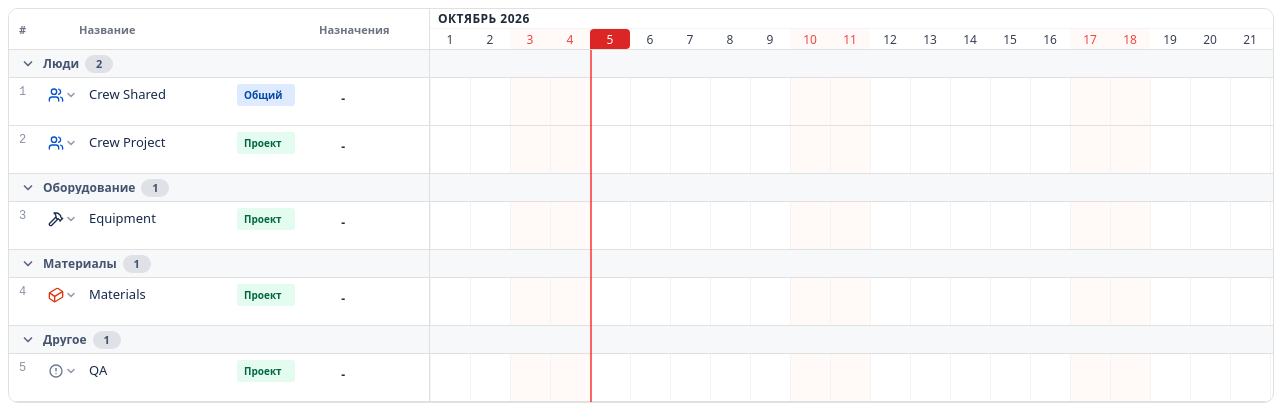
ResourceTimelineChart › collapses and expands grouped resource sections by chevron
Expected: the button with aria-label "Название ресурса Crew Shared" is shown, [85,84,225,118]
Expected: the button with aria-label "Название ресурса Crew Project" is shown, [85,132,225,166]
What coordinates should you click on to do the following:
click the button named "Свернуть группу Люди"
I would click on:
 (28, 64)
Its box is [19,54,37,72].
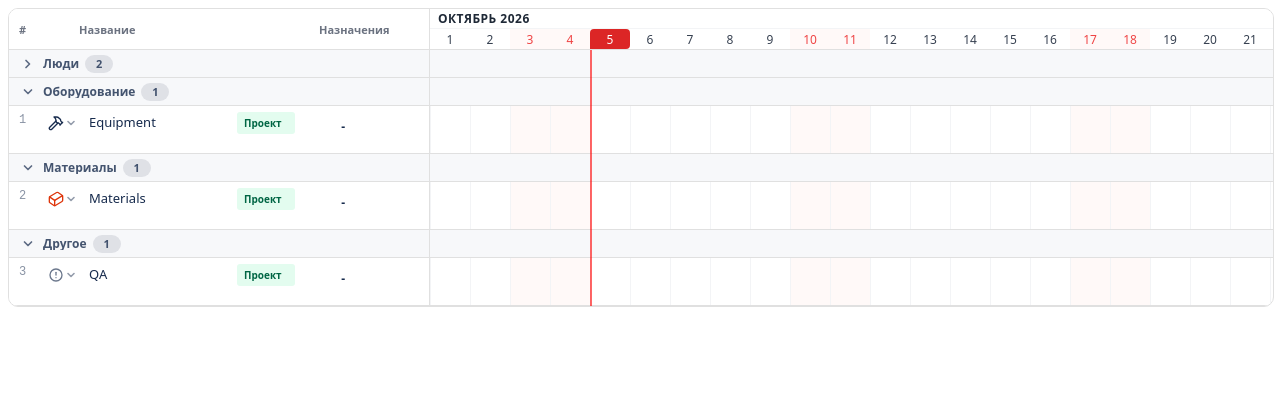
Expected: the button named "Развернуть группу Люди" is collapsed
What coordinates should you click on to do the following:
click the button named "Развернуть группу Люди"
I would click on:
 (28, 64)
Its box is [19,54,37,72].
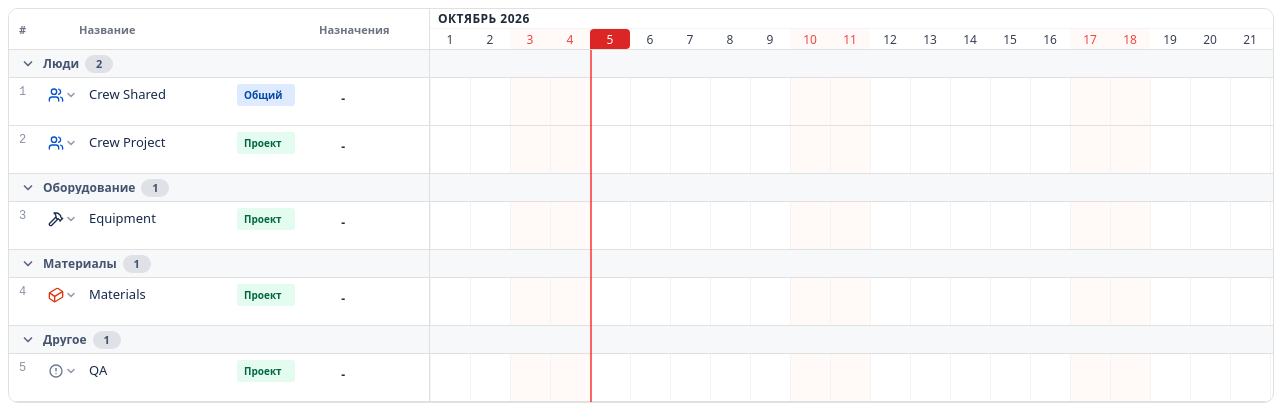
Expected: the button with aria-label "Название ресурса Crew Shared" is shown, [85,84,225,118]
Expected: the button with aria-label "Название ресурса Crew Project" is shown, [85,132,225,166]
